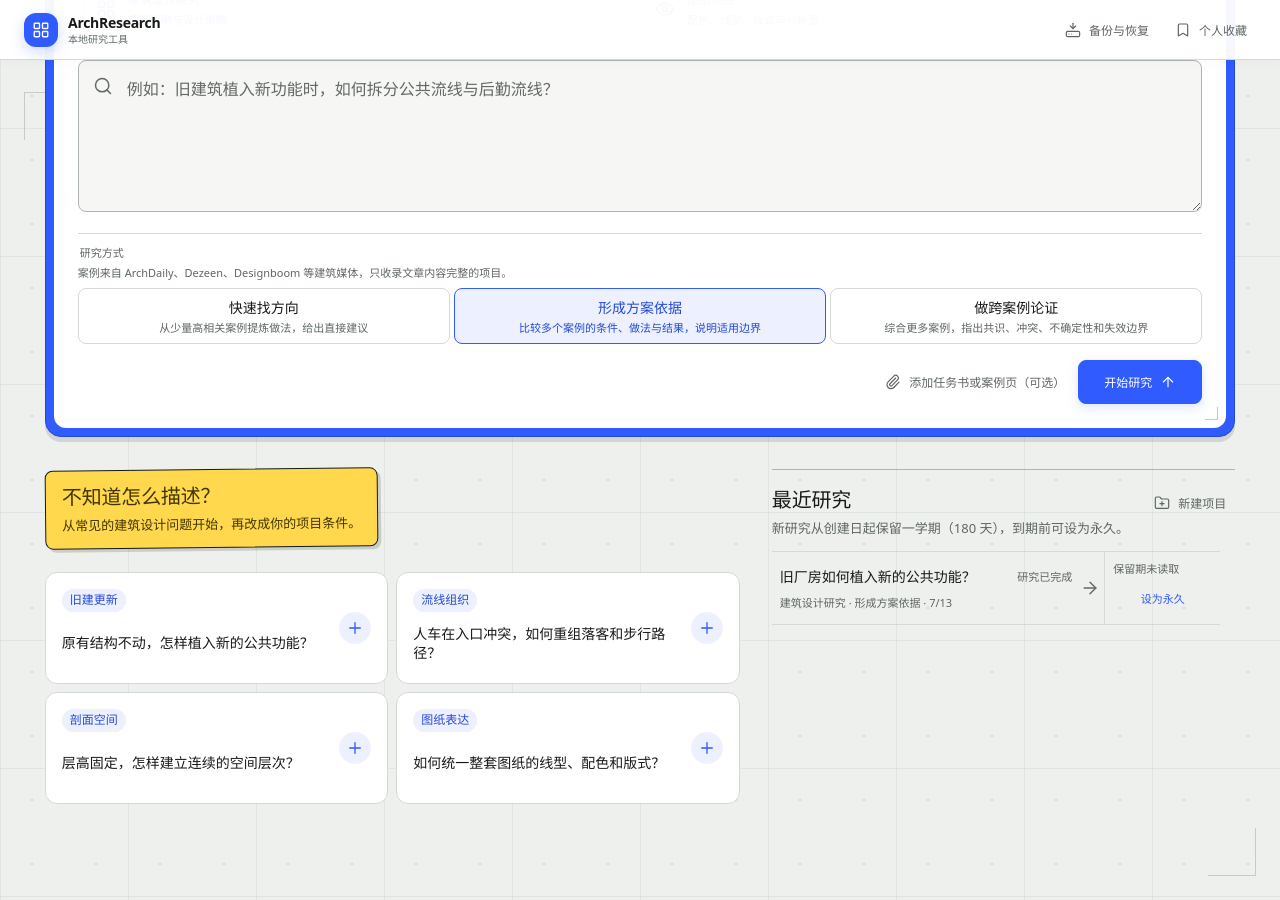
Test: research board › keeps restored results behind an explicit action on the problem-first home
(page scrolled)
Expected: the text box named "研究问题" is shown, x1=78 y1=60 x2=1202 y2=212
Expected: the text "旧厂房如何植入新的公共功能？" is shown, x1=780 y1=566 x2=1009 y2=586
Click the button "旧厂房如何植入新的公共功能？ 建筑设计研究 · 形成方案依据 · 7/13 研究已完成" at (938, 588), box x1=772 y1=552 x2=1104 y2=624
(page scrolled)
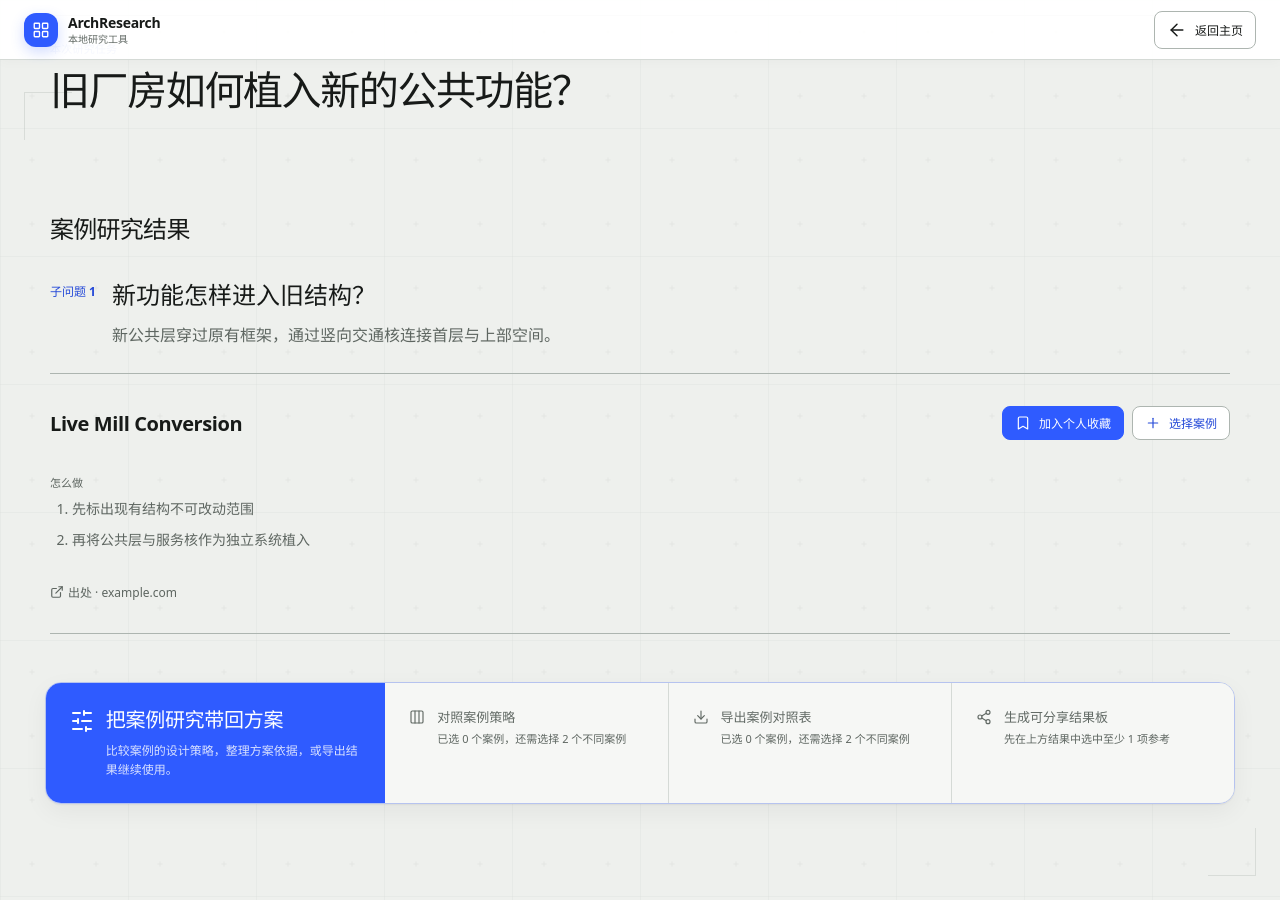
Expected: the field labelled "研究问题" is not shown
Expected: the heading "案例研究结果" is shown, x1=50 y1=212 x2=190 y2=246
